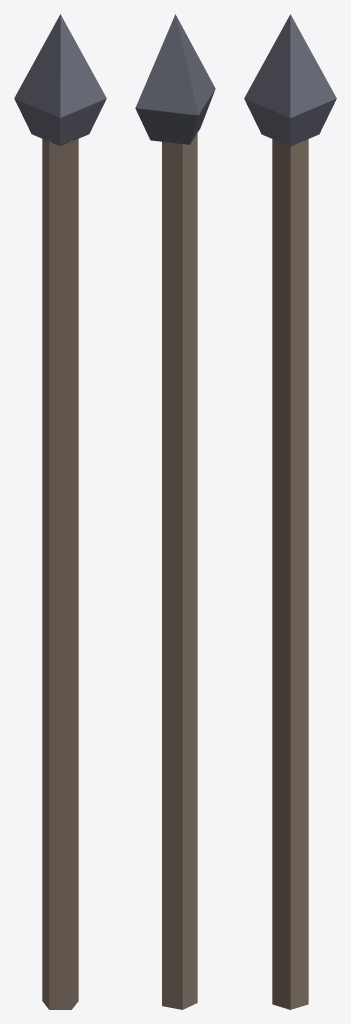
The model's file is _big_crossbow_arrow.fbx.
3 views of the same model, side by side, from view 1: azimuth 90°, elevation 25°; view 2: azimuth 210°, elevation 25°; view 3: azimuth 270°, elevation 25° (orthographic).
Parts seen in each view (by area): view 1: big_crossbow_arrow; view 2: big_crossbow_arrow; view 3: big_crossbow_arrow.
Boxes of the visible parts, bbox=[...] form: big_crossbow_arrow: bbox=[14, 14, 106, 1009]; big_crossbow_arrow: bbox=[135, 14, 215, 1009]; big_crossbow_arrow: bbox=[244, 14, 336, 1009].
Size of the model in its own units: 11.73 by 138 by 11.73.
